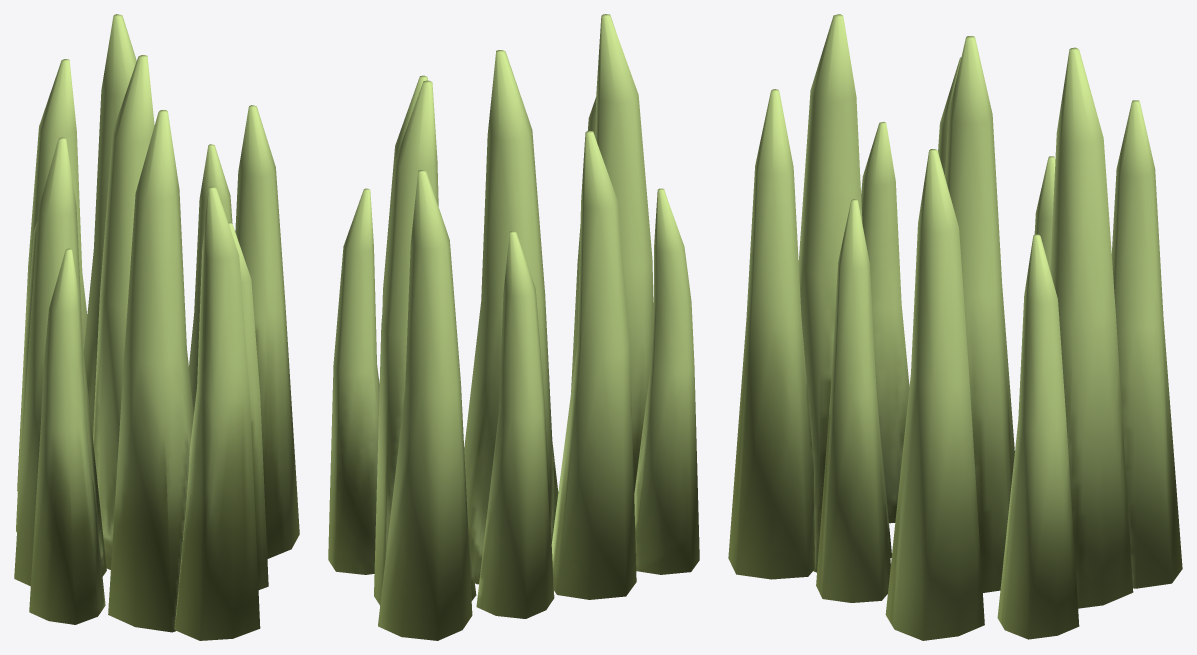
File: GramaAlta.fbx
The picture shows the model from 3 angles, left to right: view 1: azimuth 30°, elevation 25°; view 2: azimuth 150°, elevation 25°; view 3: azimuth 270°, elevation 25°; orthographic projection. The views are drawn at different scales.
Visible parts, largest first — view 1: Tall Grass; view 2: Tall Grass; view 3: Tall Grass.
Boxes of the visible parts, x1,y1,x2,y2 form: Tall Grass: (14, 14, 299, 640); Tall Grass: (328, 14, 699, 640); Tall Grass: (728, 14, 1182, 640).
Size of the model in its own units: 121 by 203 by 156.
